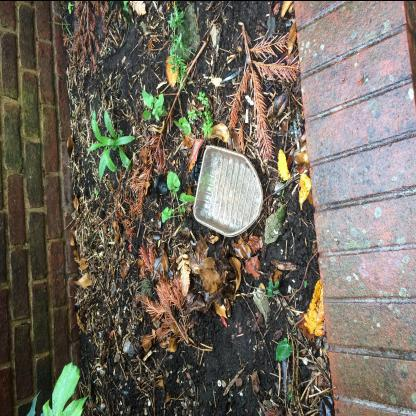plastik: (195, 145, 265, 237)
